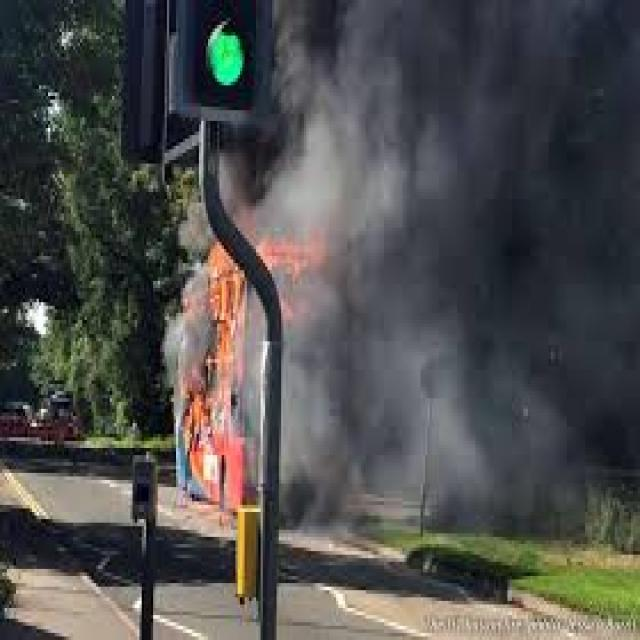Fire: (166, 248, 260, 487)
Smoke: (262, 0, 640, 538)
